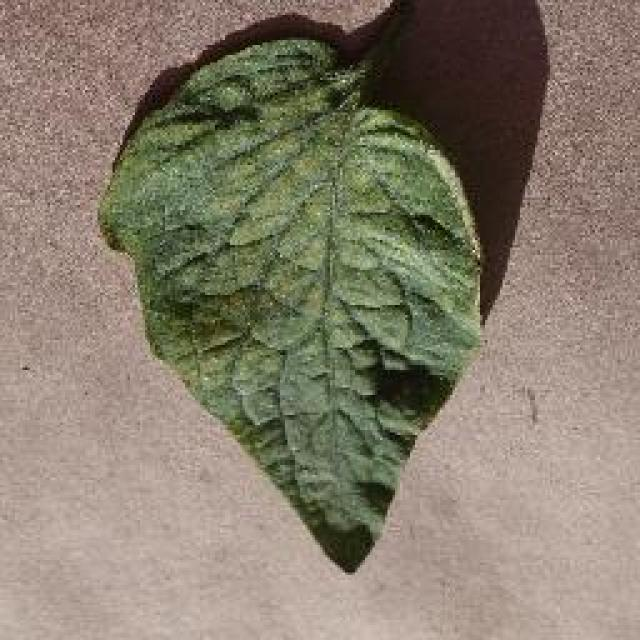Tomato___Spider_mites Two-spotted_spider_mite: (100, 6, 478, 572)
